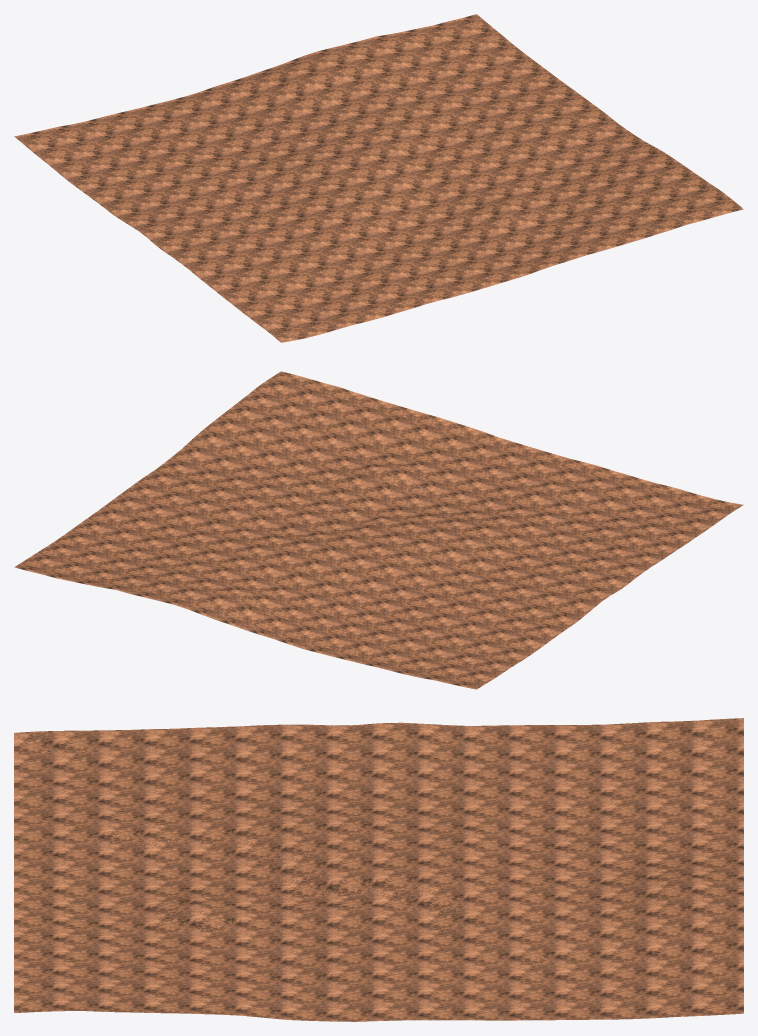
File: terrain_08_17.dae
3 renders of one model, top to bottom at view 1: azimuth 30°, elevation 25°; view 2: azimuth 150°, elevation 25°; view 3: azimuth 270°, elevation 25°, orthographic. The views are drawn at different scales.
Visible parts, largest first — view 1: terrain_08_17-node; view 2: terrain_08_17-node; view 3: terrain_08_17-node.
Boxes of the visible parts, box(x1,y1,x2,y2) form: terrain_08_17-node: box(14, 14, 743, 342); terrain_08_17-node: box(14, 371, 743, 689); terrain_08_17-node: box(14, 718, 743, 1021).
Size of the model in its own units: 128 by 128 by 6.29.
1 material, 1 textured.
